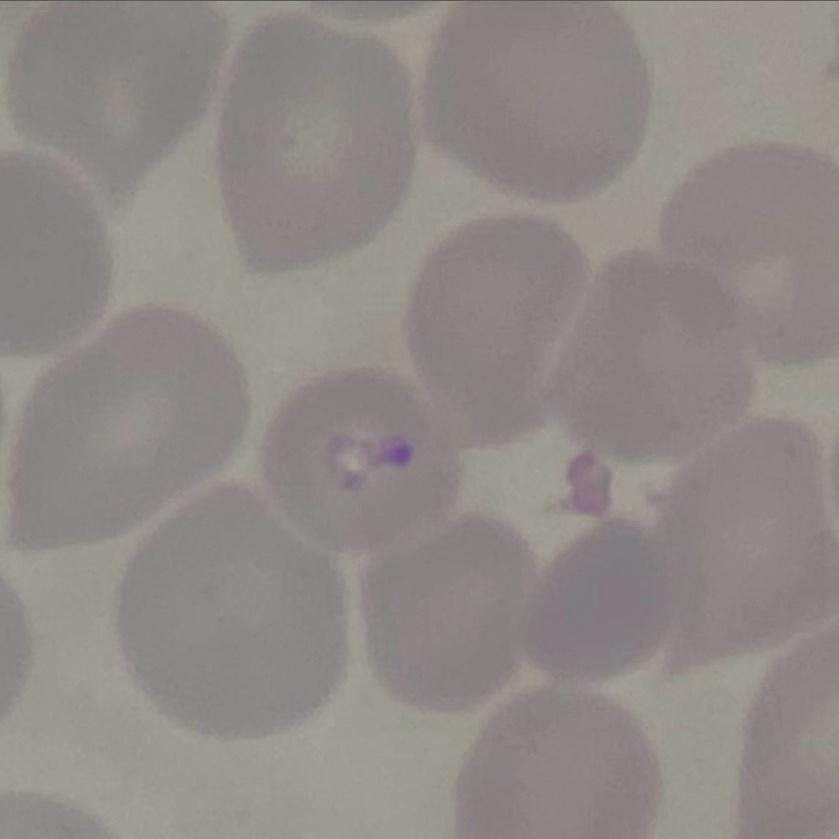Infected: (260, 367, 458, 551)
Uninfected: (0, 300, 247, 557), (110, 487, 349, 739), (635, 415, 839, 669), (218, 14, 418, 271), (520, 252, 754, 464), (0, 0, 223, 214), (422, 0, 651, 194), (403, 214, 590, 440), (660, 140, 839, 364), (355, 509, 529, 713), (452, 687, 662, 839), (507, 514, 677, 680)
